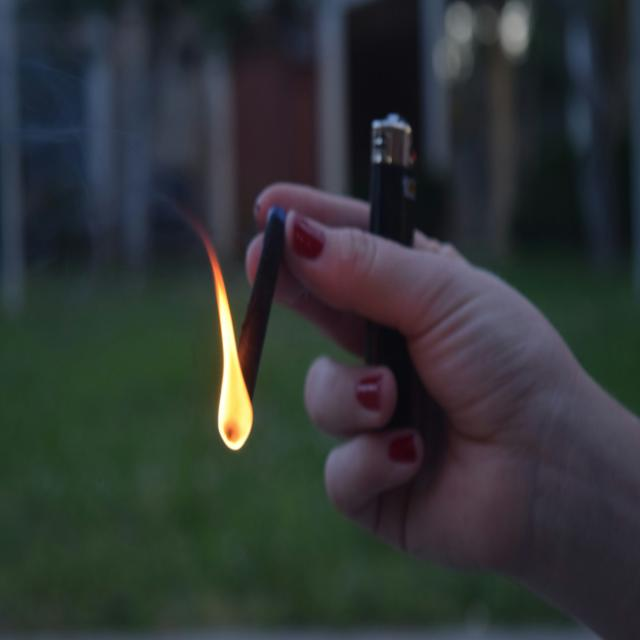fire: (188, 213, 253, 451)
